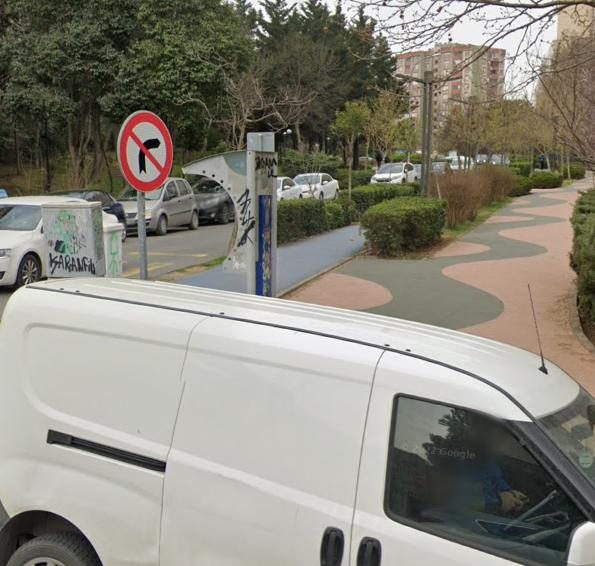rightturnsareforbidden: (118, 109, 174, 189)
